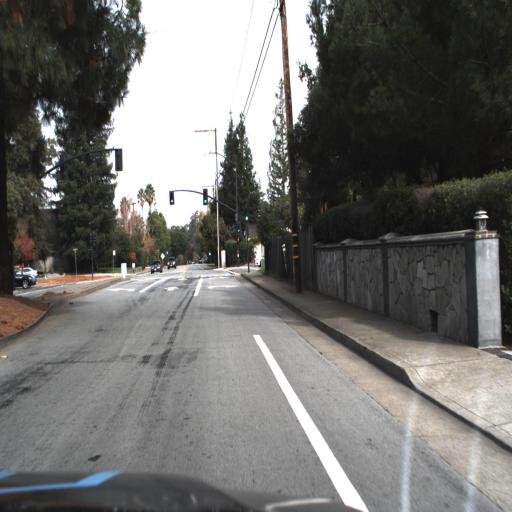car: (7, 264, 36, 292), (17, 261, 41, 283), (15, 270, 37, 292), (250, 247, 270, 269), (148, 255, 162, 277), (166, 254, 178, 272)
trafficLight-Green: (200, 190, 210, 212), (242, 209, 251, 230), (168, 187, 176, 209)
